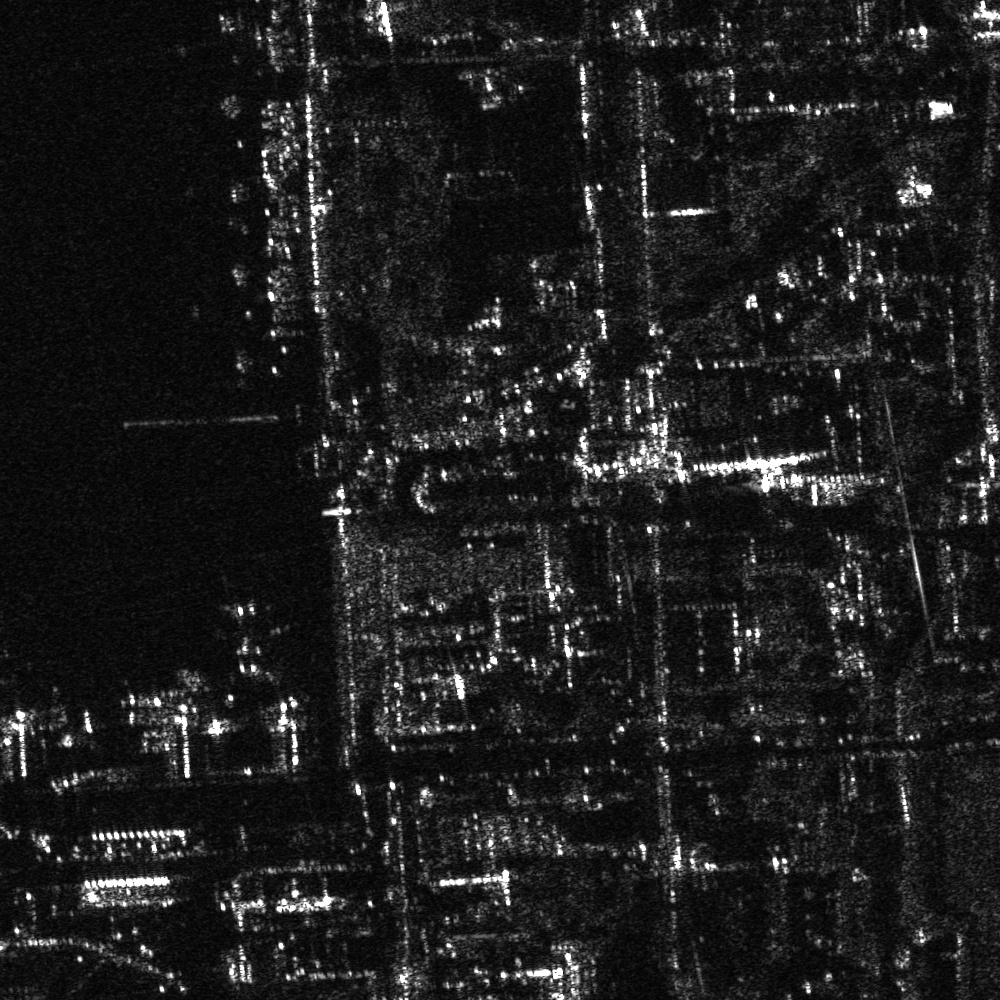A220: (196, 598, 292, 687)
